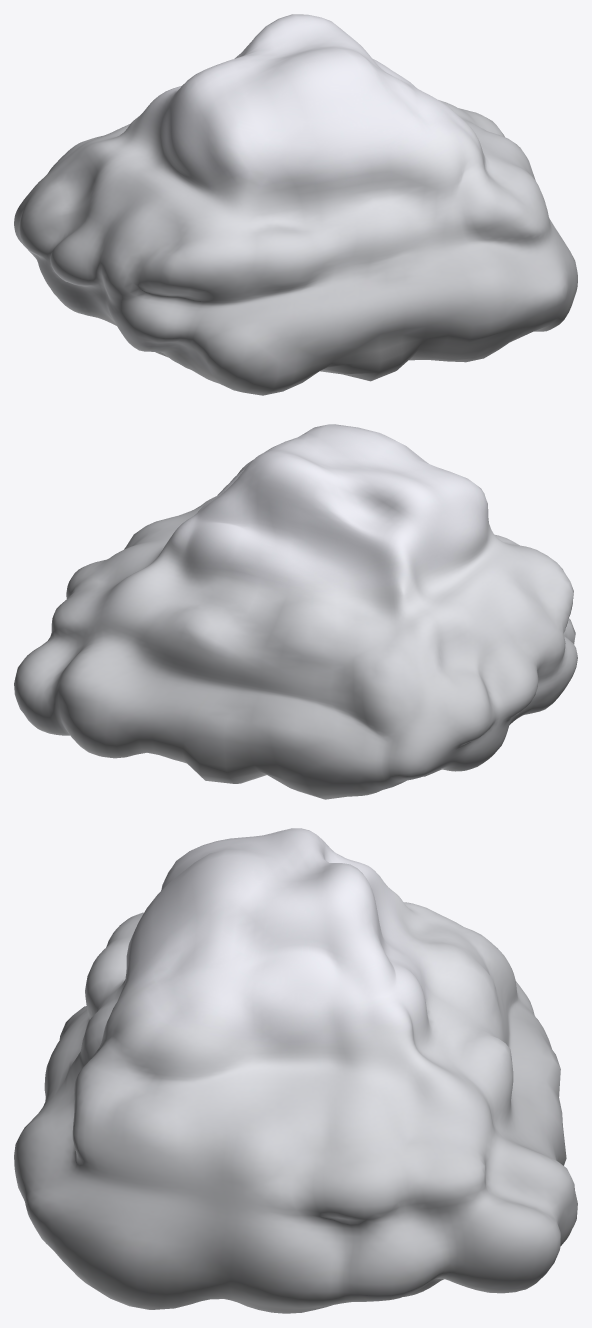
File: cloud1.fbx
The picture shows the model from 3 angles, top to bottom: view 1: azimuth 30°, elevation 25°; view 2: azimuth 150°, elevation 25°; view 3: azimuth 270°, elevation 25°; orthographic projection. The views are drawn at different scales.
Visible parts, largest first — view 1: pCube1; view 2: pCube1; view 3: pCube1.
Part boxes in pixels (bbox=[...]): pCube1: bbox=[14, 14, 577, 395]; pCube1: bbox=[14, 424, 577, 799]; pCube1: bbox=[14, 828, 577, 1313].
Bounding box in the file's own units: 838 × 497 × 736.
